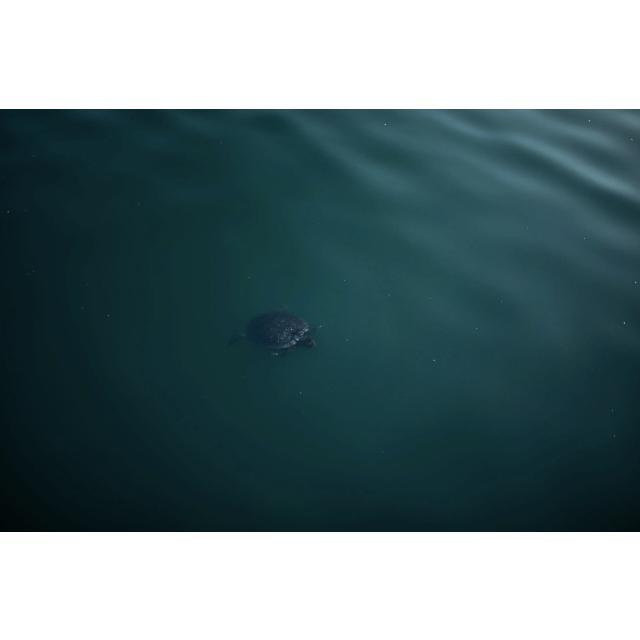turtle: (226, 310, 319, 359)
